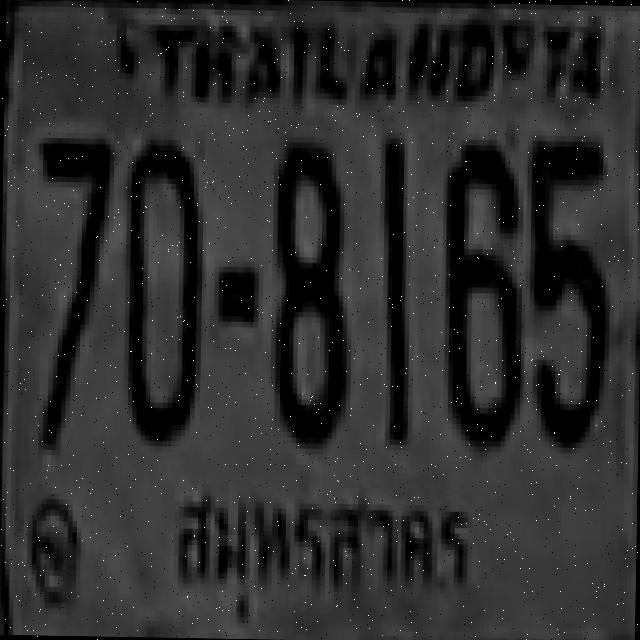5: (524, 136, 608, 312)
6: (438, 139, 523, 441)
7: (36, 134, 110, 316)
8: (269, 136, 345, 444)
SamutSakhon: (160, 482, 482, 628)
